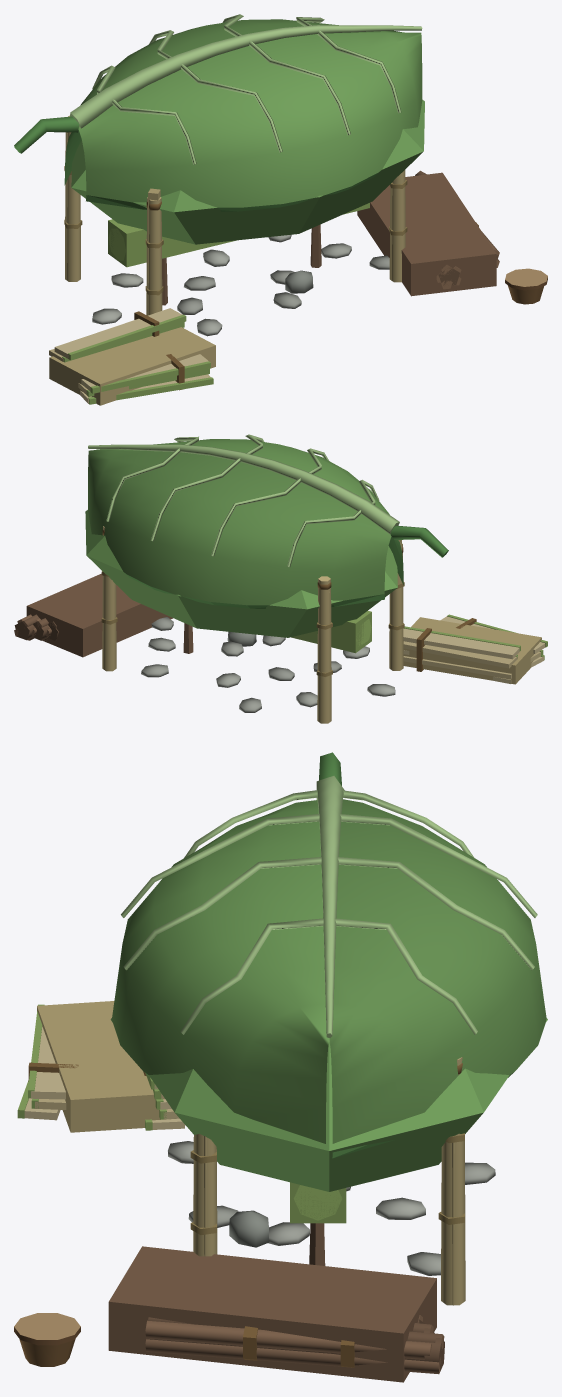
The model's file is sawmill.glb.
3 renders of one model, top to bottom at view 1: azimuth 30°, elevation 25°; view 2: azimuth 150°, elevation 25°; view 3: azimuth 270°, elevation 25°, orthographic. The views are drawn at different scales.
Visible parts, largest first — view 1: body_nl, body__far, body, body_nh; view 2: body_nl, body, body__far, body_nh; view 3: body_nl, body__far, body, body_nh.
Part boxes in pixels (x1,y1,x2,y2): body_nl: (64,19,422,211); body__far: (49,99,496,405); body: (14,25,547,404); body_nh: (92,14,401,164); body_nl: (88,439,403,608); body: (14,444,547,723); body__far: (26,510,541,721); body_nh: (106,434,379,567); body_nl: (112,799,546,1158); body__far: (37,1001,547,1382); body: (14,752,495,1374); body_nh: (121,790,537,1034).
Bounding box in the file's own units: 3.72 × 1.83 × 2.37.
